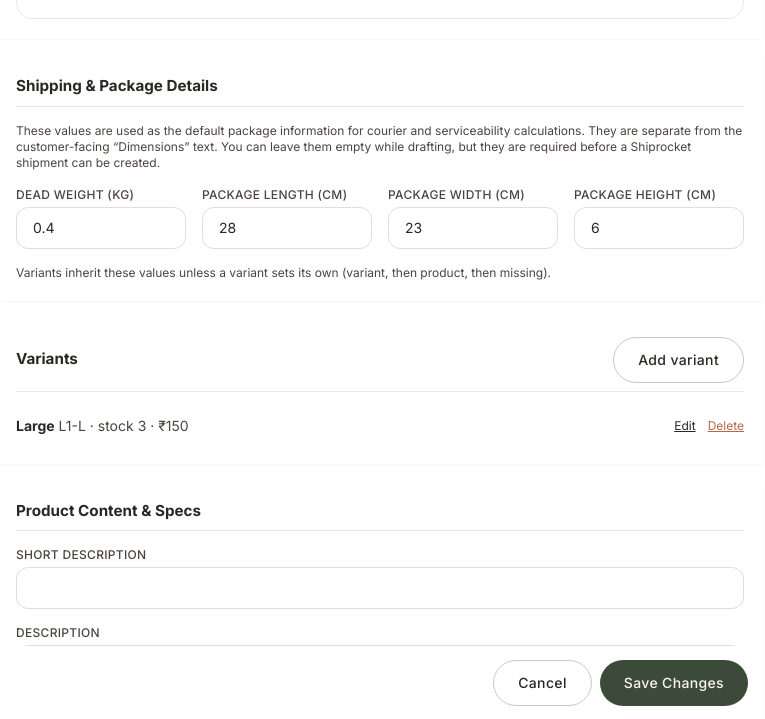
Test case: Admin product variants section › requires name and SKU and surfaces API errors
(page scrolled)
Expected: the list item with test id "variant-row" is shown, [16,417,744,434]
Click the button "Add variant": (679, 360) [613,337,744,383]
(page scrolled)
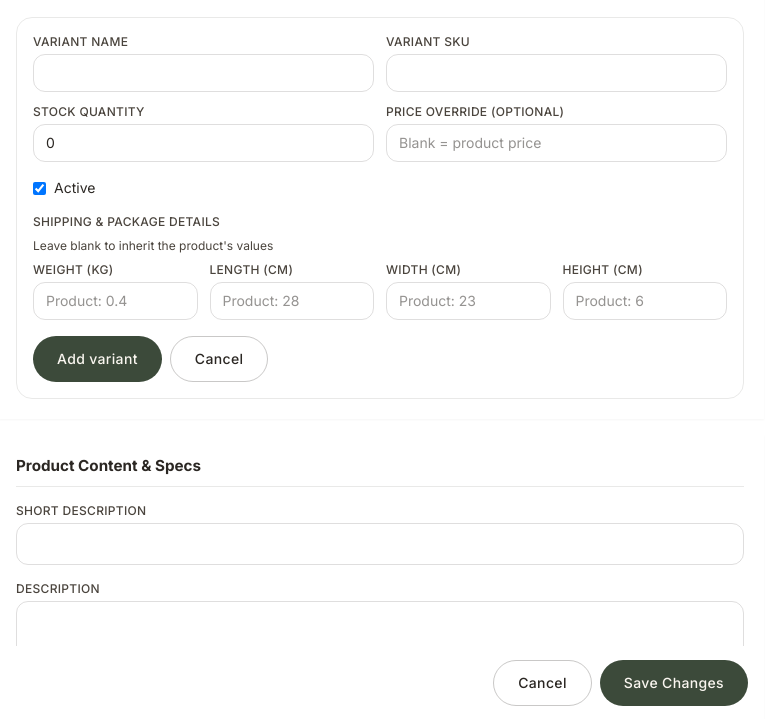
Click the button "Add variant": (97, 359) [33,336,162,382]
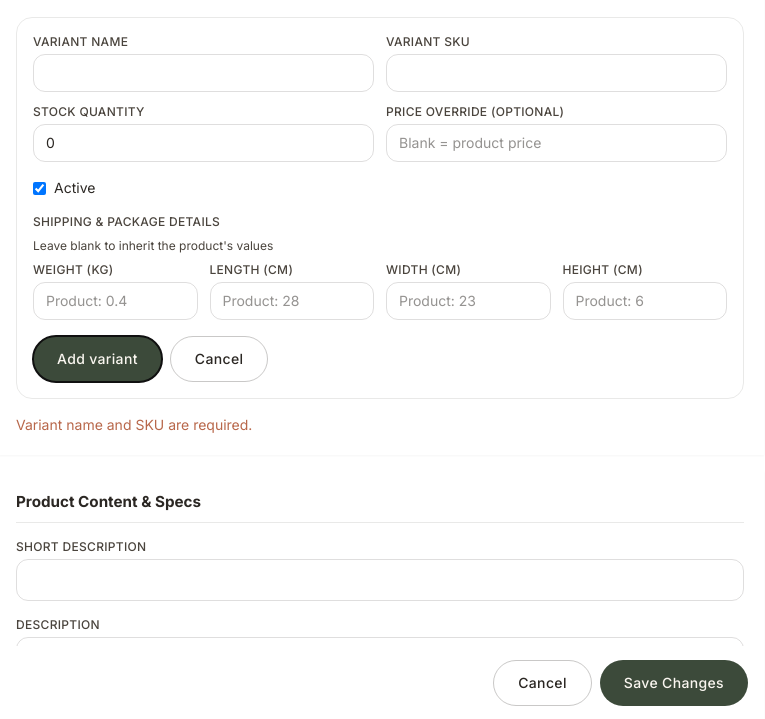
Expected: the message shows "name and SKU are required", [16,416,252,433]
In the field labelled "Variant name": (204, 73) [33,54,374,92], type "X"
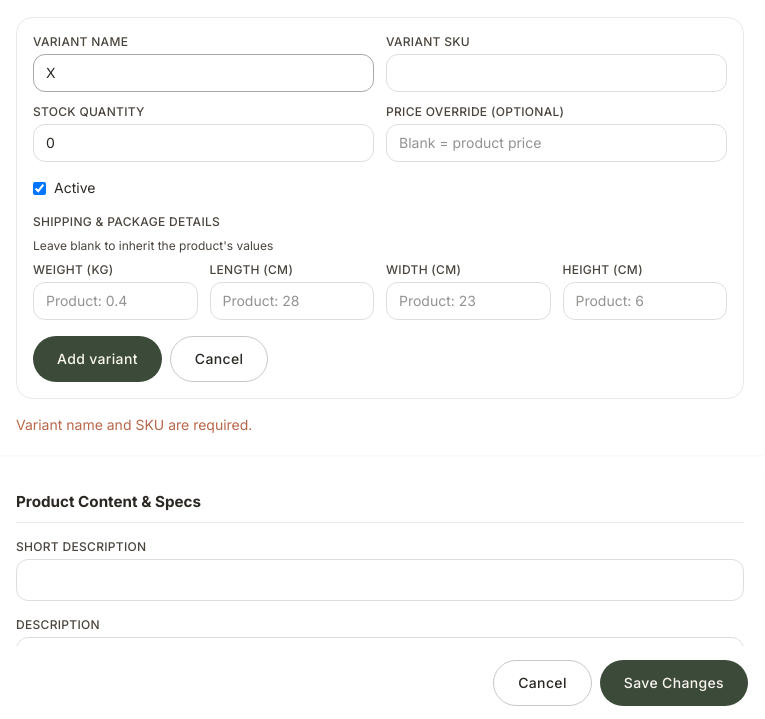
In the field labelled "Variant SKU": (556, 73) [386,54,727,92], type "DUP"
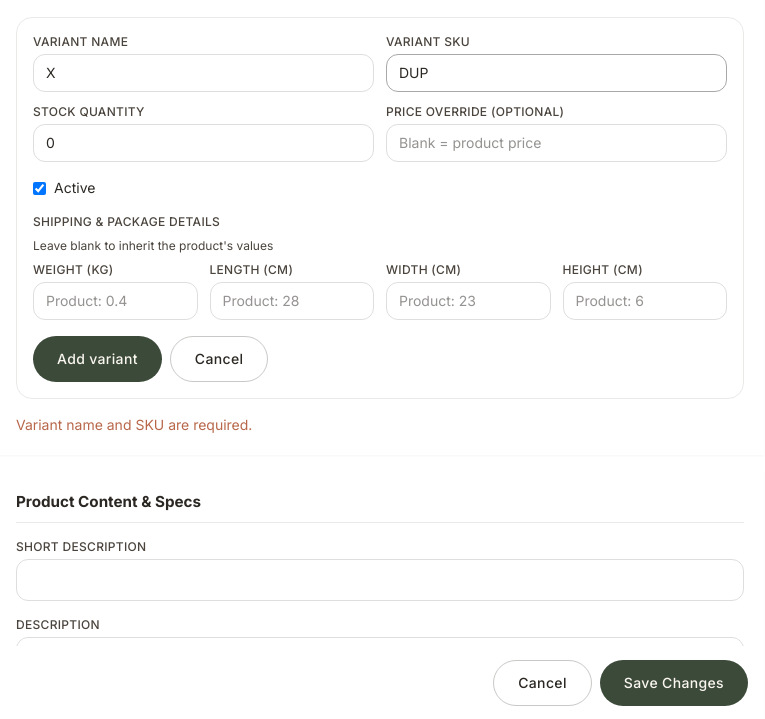
Click the button "Add variant": (97, 359) [33,336,162,382]
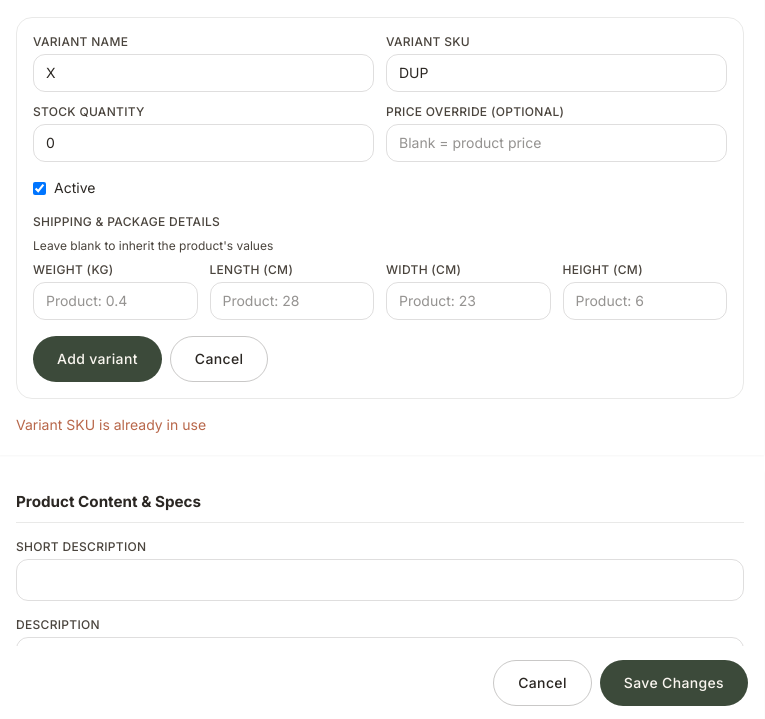
Expected: the message shows "already in use", [16,416,206,433]
